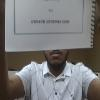notebook: (4, 0, 96, 52)
